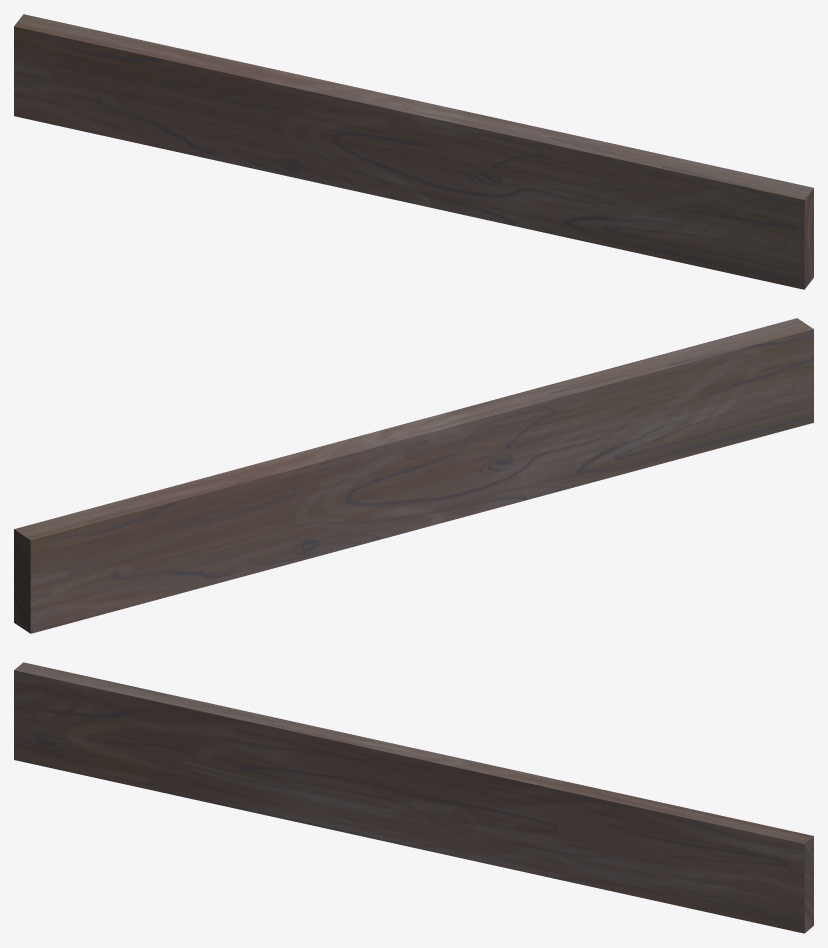
Rendered from long_board_030.fbx.
3 renders of one model, top to bottom at view 1: azimuth 90°, elevation 25°; view 2: azimuth 150°, elevation 25°; view 3: azimuth 270°, elevation 25°, orthographic. The views are drawn at different scales.
Visible parts, largest first — view 1: long board.030; view 2: long board.030; view 3: long board.030.
Boxes of the visible parts, bbox=[...] form: long board.030: bbox=[14, 14, 813, 289]; long board.030: bbox=[14, 318, 813, 633]; long board.030: bbox=[14, 662, 813, 933].
Bounding box in the file's own units: 44.64 × 10.41 × 82.1.
